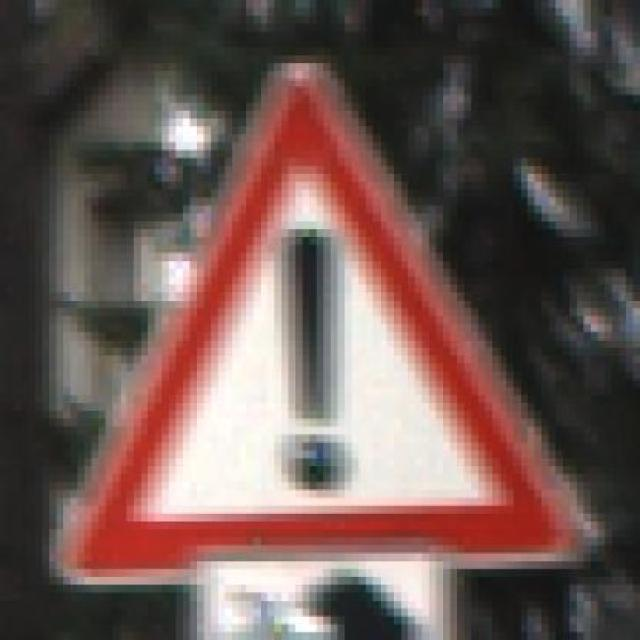Attention Please-: (42, 47, 598, 593)
